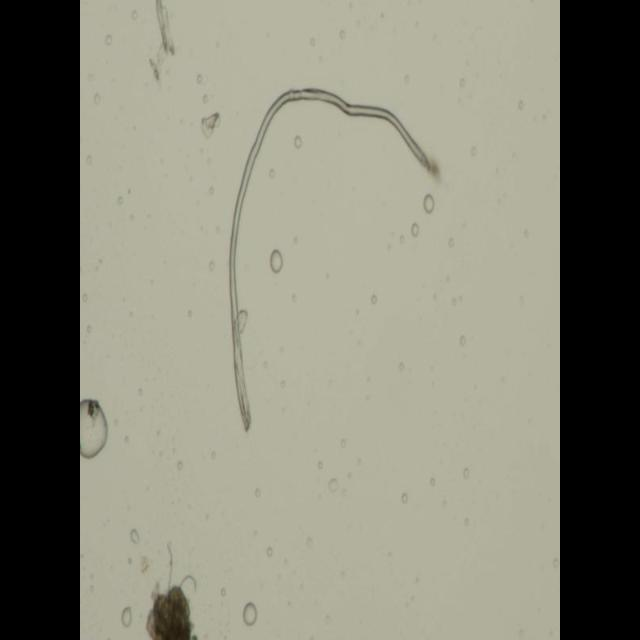Fibre: (228, 86, 440, 432)
